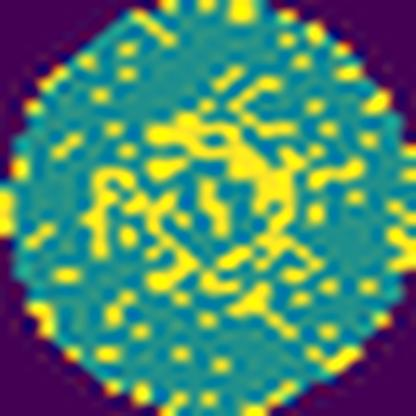Donut: (75, 74, 342, 327)
